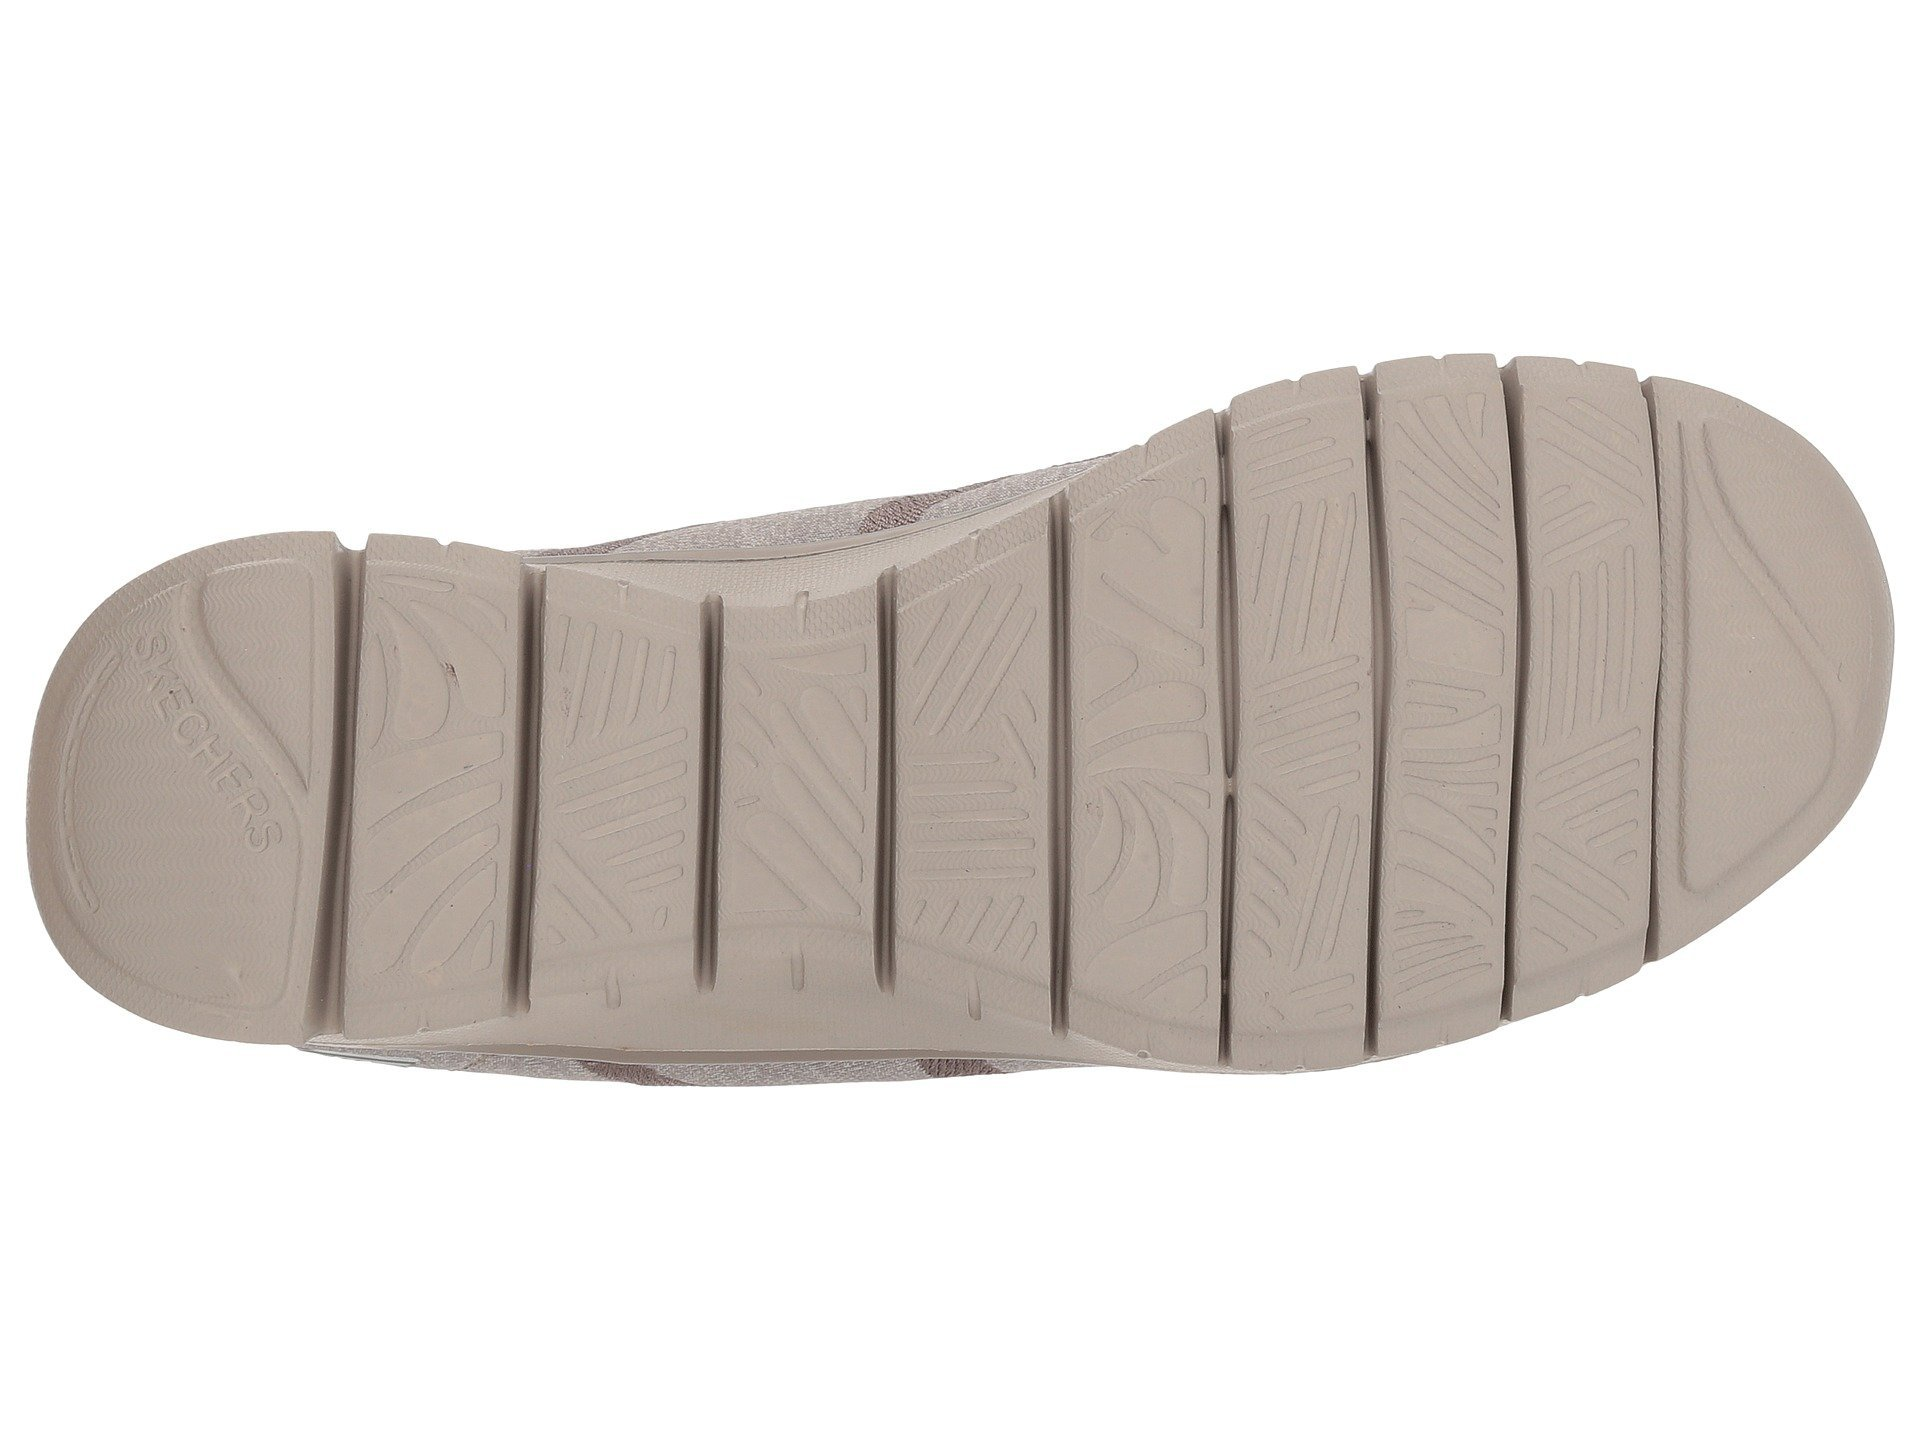line: (1023, 511, 1542, 1021)
quad: (1023, 511, 1542, 1021)
text: (101, 623, 351, 902)
